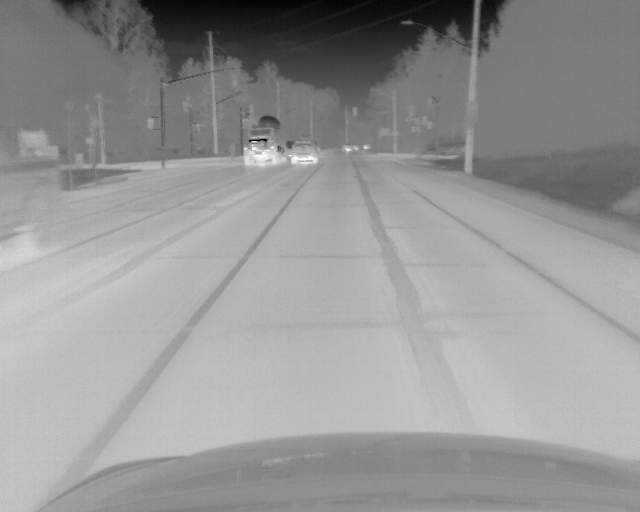car: (1, 129, 61, 247), (239, 116, 283, 169), (288, 138, 319, 165), (340, 144, 357, 155), (362, 143, 372, 153)
